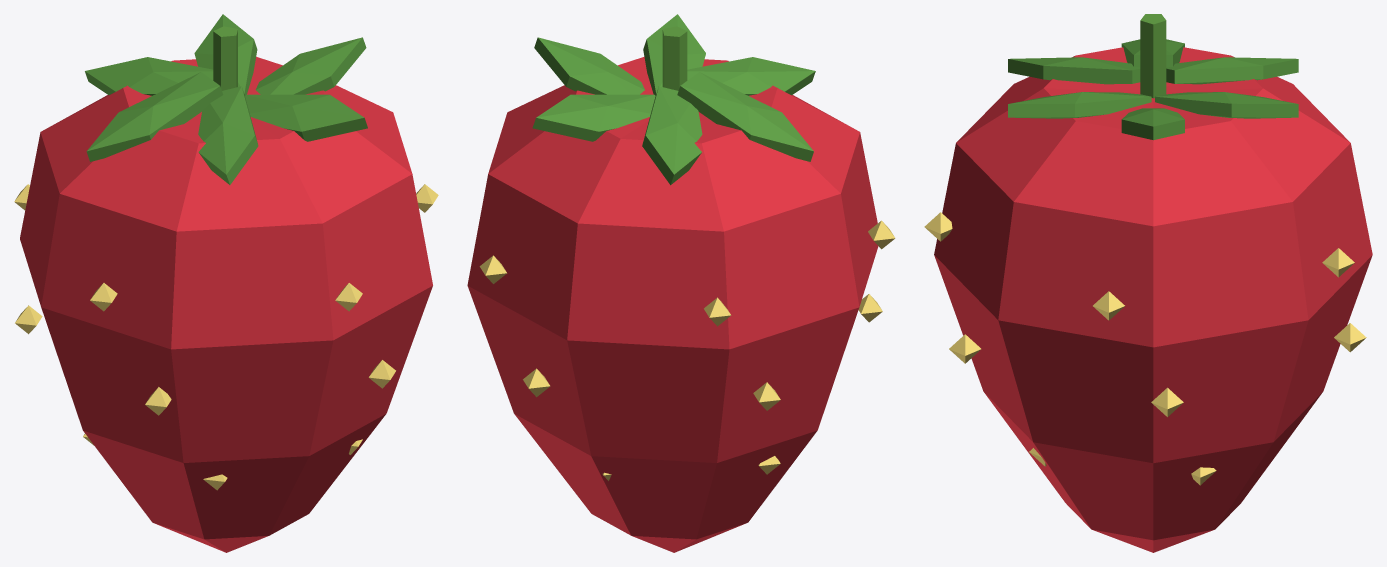
File: Food_Strawberry.obj
3 renders of one model, left to right at view 1: azimuth 30°, elevation 25°; view 2: azimuth 150°, elevation 25°; view 3: azimuth 270°, elevation 25°, orthographic. The views are drawn at different scales.
Size of the model in its own units: 1.62 by 2.15 by 1.64.
